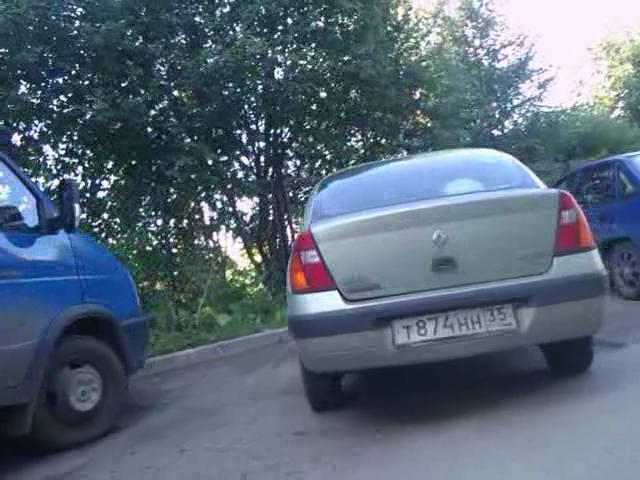license-plateSW: (392, 302, 519, 345)
